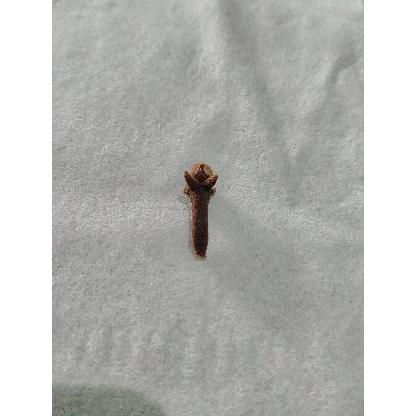baik: (184, 163, 218, 260)
